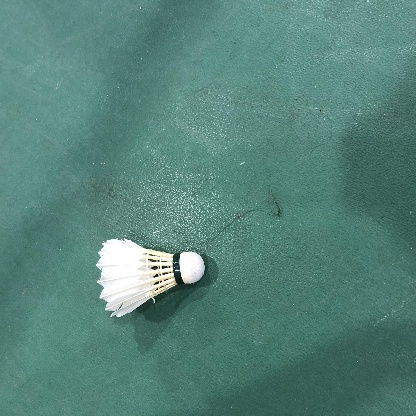ball_single: (96, 238, 205, 318)
